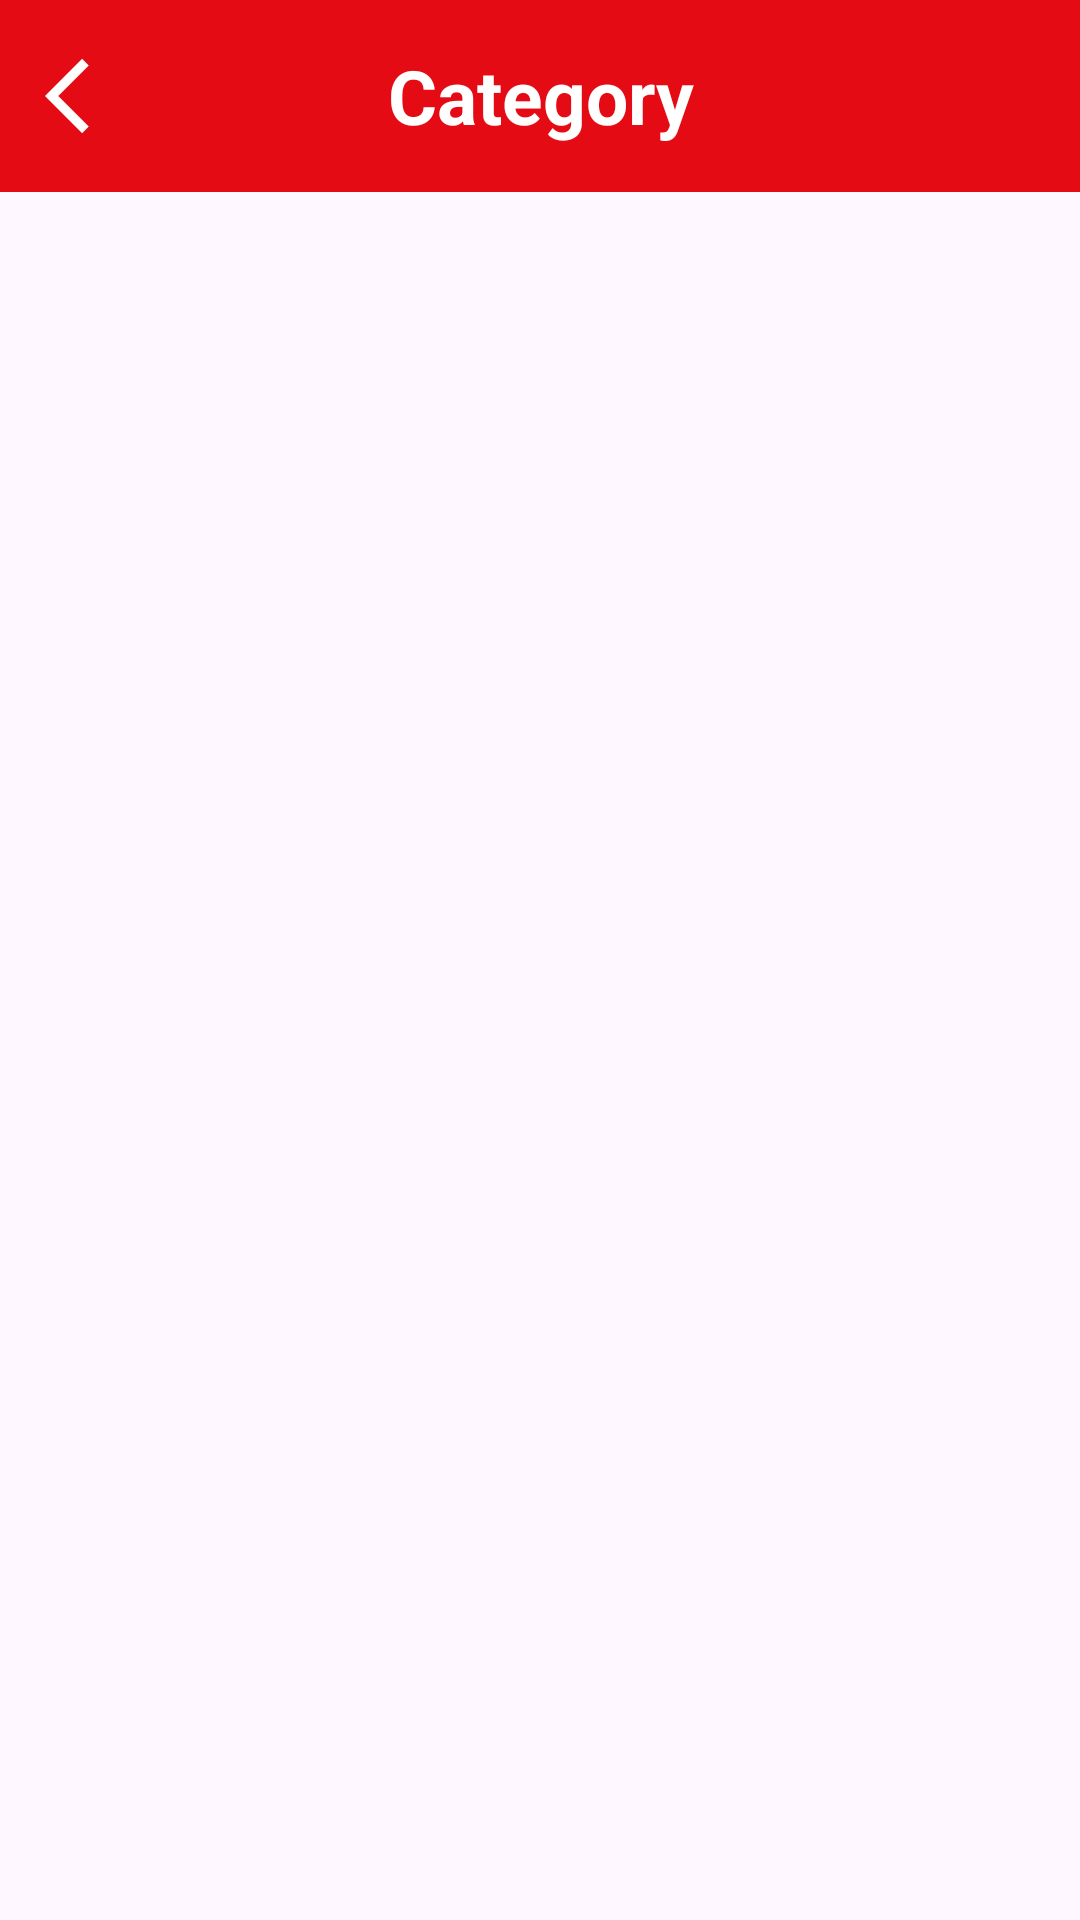

Named icons in this screenshot (1080*1920) and their bounding boxes, {"x1": x1, "y1": y1, "x2": x2, "y2": y2}:
arrow back: {"x1": 45, "y1": 59, "x2": 89, "y2": 133}
